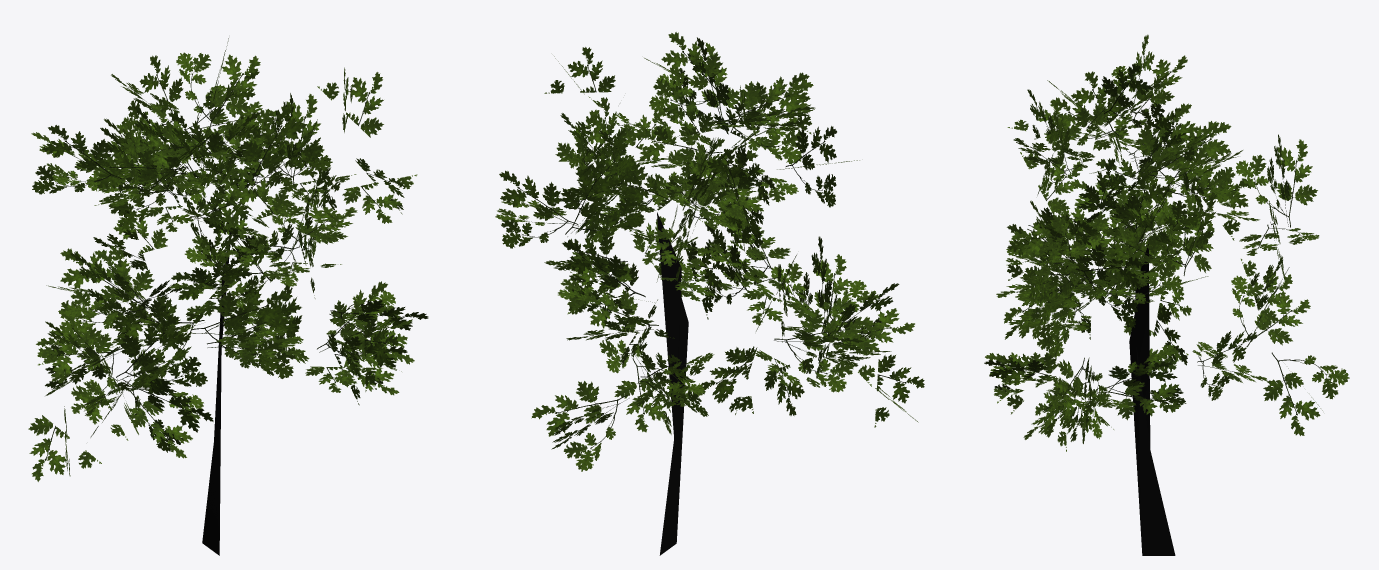
File: maple1 lod4.FBX
3 views of the same model, side by side, from view 1: azimuth 30°, elevation 25°; view 2: azimuth 150°, elevation 25°; view 3: azimuth 270°, elevation 25° (orthographic). The views are drawn at different scales.
Visible parts, largest first — view 1: maple1_LOD4; view 2: maple1_LOD4; view 3: maple1_LOD4.
Boxes of the visible parts, box(x1,y1,x2,y2) form: maple1_LOD4: box(28, 38, 428, 555); maple1_LOD4: box(495, 32, 924, 555); maple1_LOD4: box(984, 34, 1349, 555).
Bounding box in the file's own units: 75381 × 95216 × 66340.
